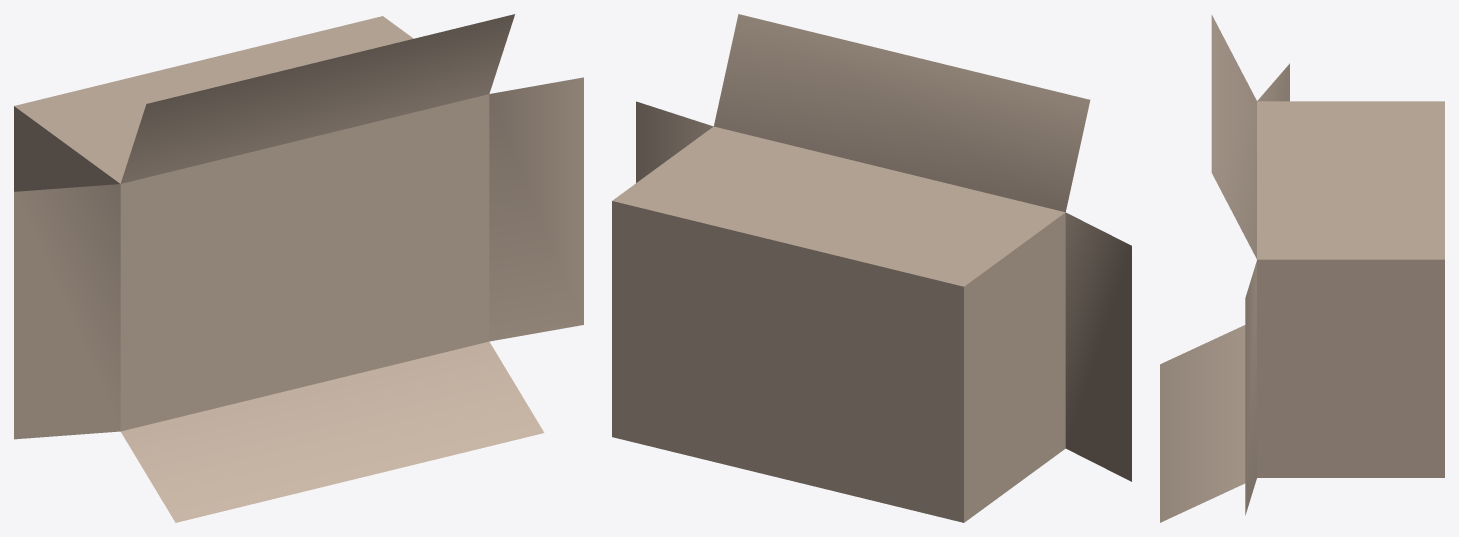
The model's file is Cardboard_2.glb.
3 renders of one model, left to right at view 1: azimuth 30°, elevation 25°; view 2: azimuth 150°, elevation 25°; view 3: azimuth 270°, elevation 25°, orthographic. The views are drawn at different scales.
Visible parts, largest first — view 1: Cardboard_2; view 2: Cardboard_2; view 3: Cardboard_2.
Boxes of the visible parts, <box> form: Cardboard_2: <box>14,14,583,522</box>; Cardboard_2: <box>612,14,1131,522</box>; Cardboard_2: <box>1160,15,1444,522</box>.
Size of the model in its own units: 1.28 by 0.8927 by 0.6578.
